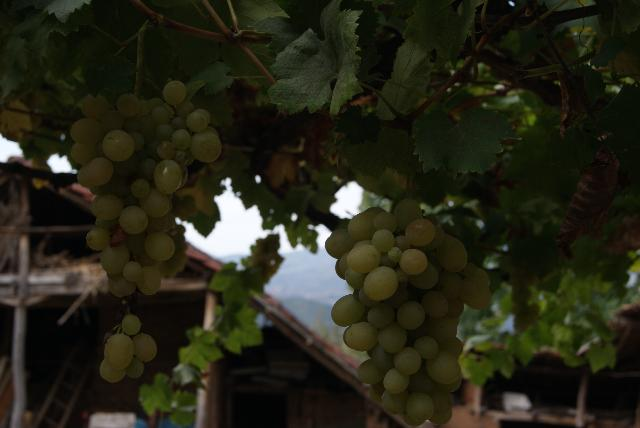grapes: (326, 199, 491, 426), (70, 80, 221, 308), (100, 309, 158, 382)
